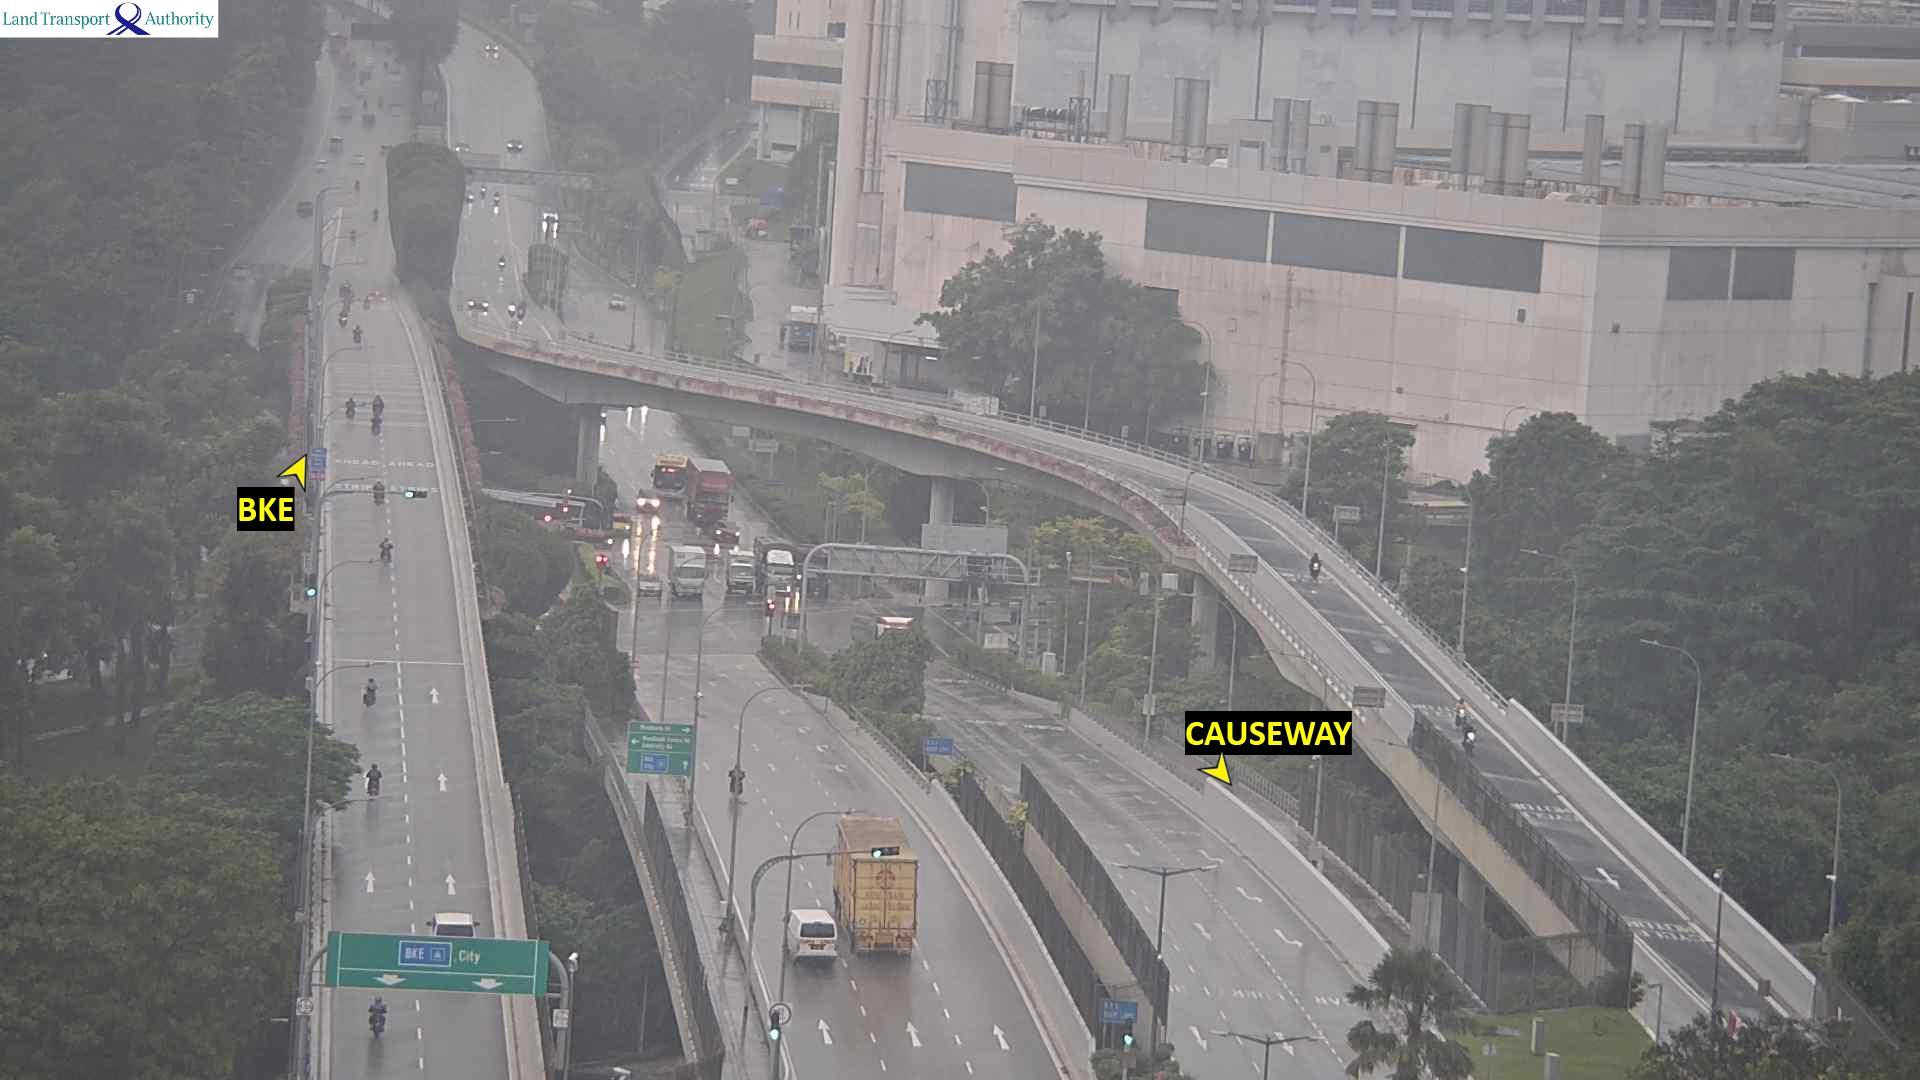vehicle-causeway-johor: (787, 907, 837, 964), (852, 613, 915, 644), (1465, 727, 1477, 758), (1309, 553, 1321, 583), (467, 295, 489, 310), (1456, 695, 1465, 727), (498, 253, 505, 272), (520, 303, 526, 320), (508, 302, 514, 318), (465, 191, 473, 204), (481, 186, 488, 198), (495, 193, 500, 207)
vehicle-causeway-singapore: (833, 816, 919, 957), (429, 913, 477, 938), (368, 996, 388, 1036), (364, 764, 381, 796), (729, 764, 745, 794), (363, 676, 377, 708), (378, 537, 392, 562), (373, 479, 385, 504), (372, 413, 382, 434), (347, 396, 356, 419), (373, 394, 385, 411), (338, 309, 347, 327), (355, 323, 363, 343)
